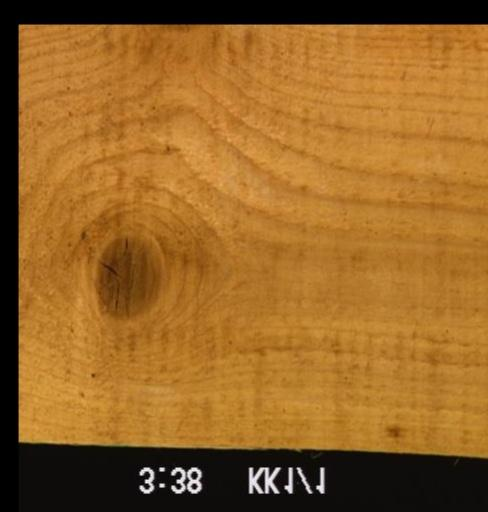sound_knot: (90, 231, 163, 321)
